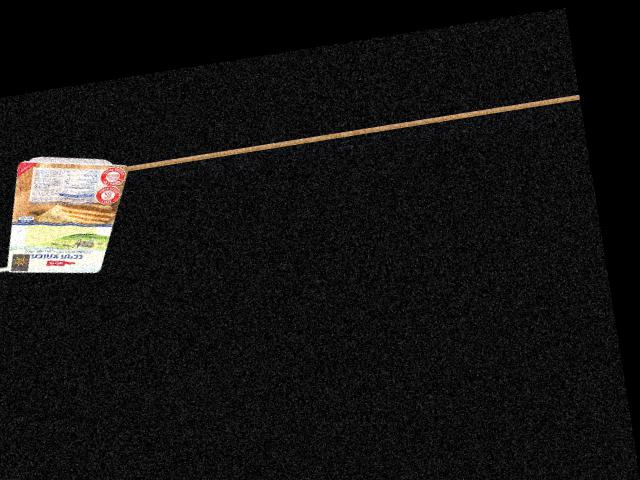cheese: (2, 149, 122, 283)
